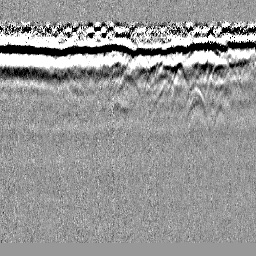cavity: (114, 68, 142, 101)
